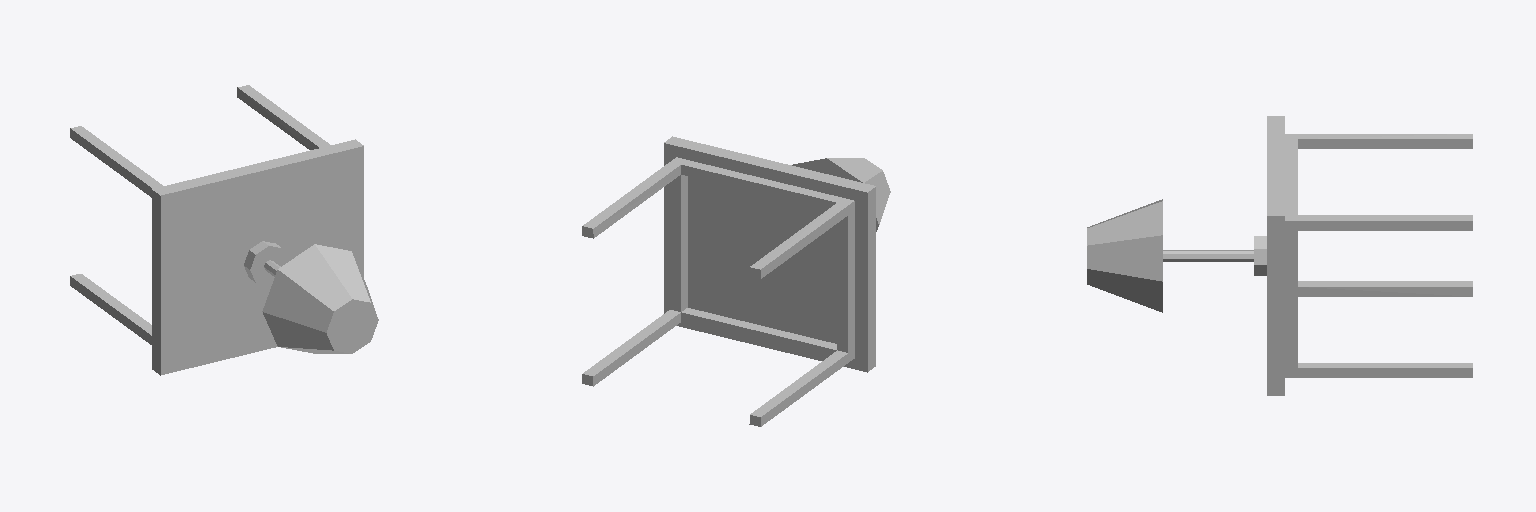
The model's file is LampAndStand.obj.
3 renders of one model, left to right at view 1: azimuth 30°, elevation 25°; view 2: azimuth 150°, elevation 25°; view 3: azimuth 270°, elevation 25°, orthographic.
Visible parts, largest first — view 1: LampAndStand; view 2: LampAndStand; view 3: LampAndStand.
Boxes of the visible parts, <box> form: LampAndStand: <box>70,85,378,375</box>; LampAndStand: <box>582,136,890,426</box>; LampAndStand: <box>1087,116,1472,395</box>.
Bounding box in the file's own units: 0.6222 × 0.5246 × 1.02.